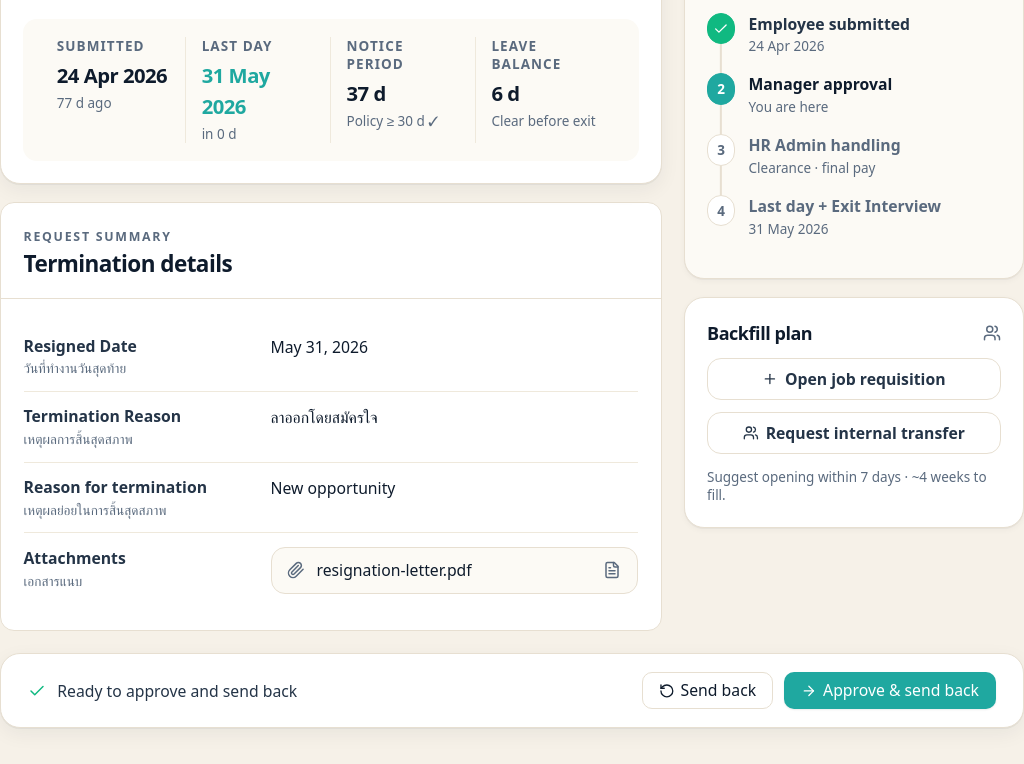
Test: ResignationDetailPage — manager step (pending_manager) › requires a reason before confirming send back
(page scrolled)
Click the button "Send back" at (707, 691), box [642,672,773,709]
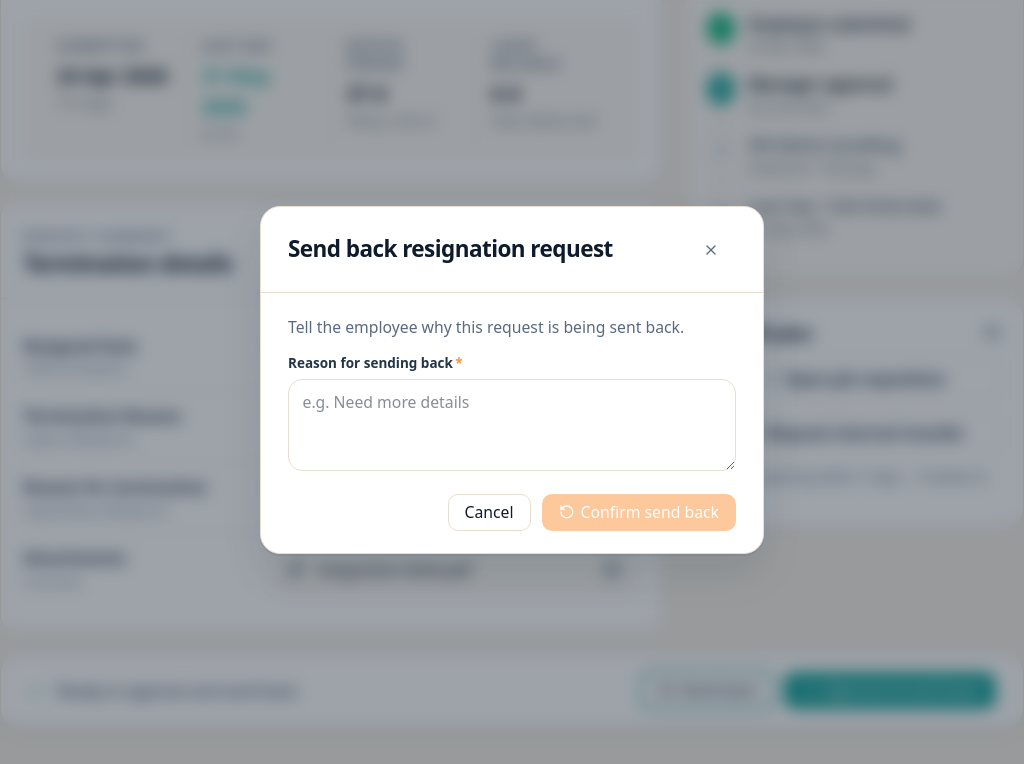
Expected: the button "Confirm send back" is disabled, [542,494,736,531]
